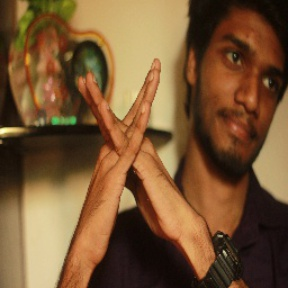W: (68, 52, 195, 261)
